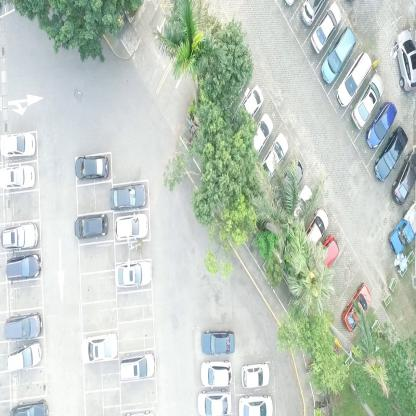car: (336, 50, 373, 109), (319, 29, 356, 88), (374, 128, 408, 184), (352, 76, 386, 131), (309, 2, 343, 57), (392, 29, 416, 95), (366, 101, 396, 151), (341, 284, 372, 332), (260, 131, 288, 184), (300, 206, 330, 255), (392, 147, 416, 208), (310, 235, 339, 285), (388, 200, 415, 253), (275, 157, 303, 207), (235, 84, 265, 130), (119, 348, 155, 386), (289, 183, 314, 233), (84, 331, 119, 366), (1, 218, 37, 252), (5, 250, 43, 282), (4, 311, 42, 343), (114, 257, 152, 288), (109, 178, 145, 210), (6, 341, 42, 373), (248, 114, 273, 158), (115, 210, 148, 242), (73, 212, 108, 242), (196, 387, 232, 415), (0, 161, 36, 189), (75, 150, 108, 180), (0, 130, 35, 158), (241, 360, 272, 390), (200, 358, 232, 387), (239, 391, 275, 416), (201, 329, 235, 355), (9, 397, 48, 415), (300, 0, 327, 25)
